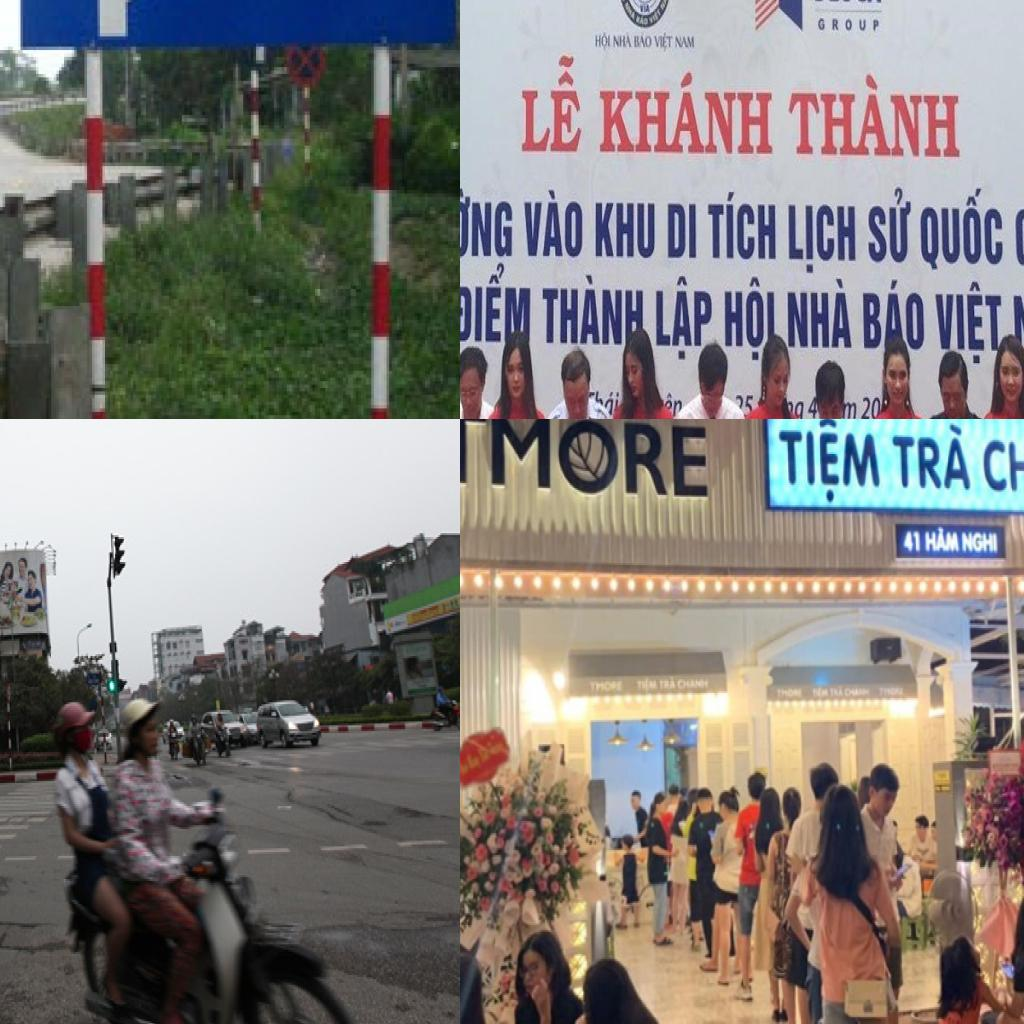text: (460, 419, 711, 503), (597, 65, 774, 157), (787, 72, 962, 163), (771, 419, 886, 505), (540, 274, 644, 351), (918, 186, 1004, 273), (518, 53, 582, 157), (890, 424, 976, 498), (460, 260, 533, 347), (933, 280, 1003, 368), (652, 276, 715, 363), (706, 190, 778, 260), (787, 204, 857, 276), (786, 277, 854, 351), (862, 279, 927, 354), (722, 276, 776, 365), (522, 187, 584, 261), (460, 187, 513, 260), (866, 186, 912, 267), (594, 201, 656, 261), (979, 431, 1024, 498), (667, 201, 698, 261), (924, 529, 962, 558), (961, 529, 1000, 556), (1012, 204, 1024, 268), (587, 681, 627, 696), (902, 531, 924, 556), (860, 395, 882, 419), (677, 678, 711, 693), (633, 678, 660, 696), (774, 688, 805, 703), (654, 32, 674, 55), (674, 33, 696, 52), (634, 32, 653, 53), (594, 32, 612, 53), (613, 32, 633, 50), (648, 6, 663, 29), (844, 688, 872, 700), (810, 686, 830, 702), (806, 395, 819, 419), (659, 678, 679, 693), (879, 688, 904, 700), (842, 401, 858, 419), (624, 2, 636, 24), (635, 13, 649, 29), (830, 686, 846, 700), (660, 0, 671, 15), (640, 3, 650, 13)
